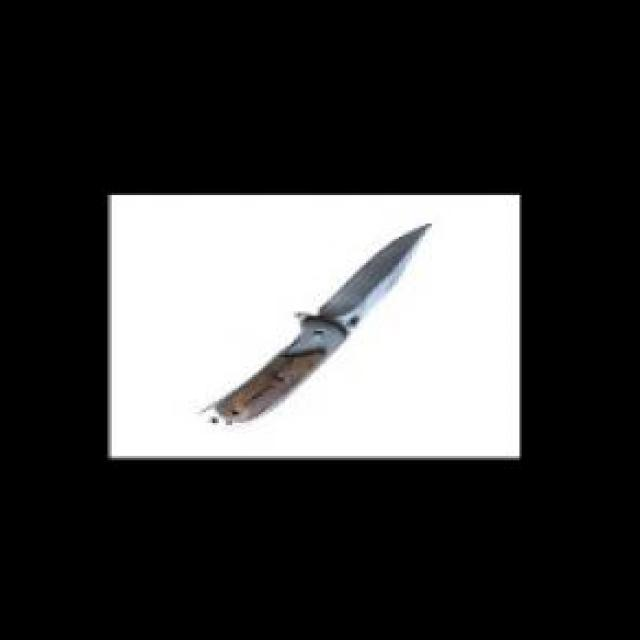knife: (195, 223, 443, 430)
